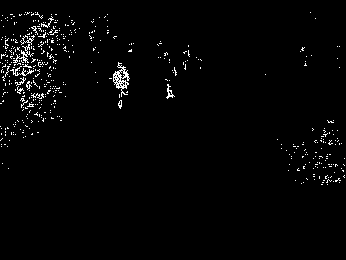person: (111, 62, 130, 111)
